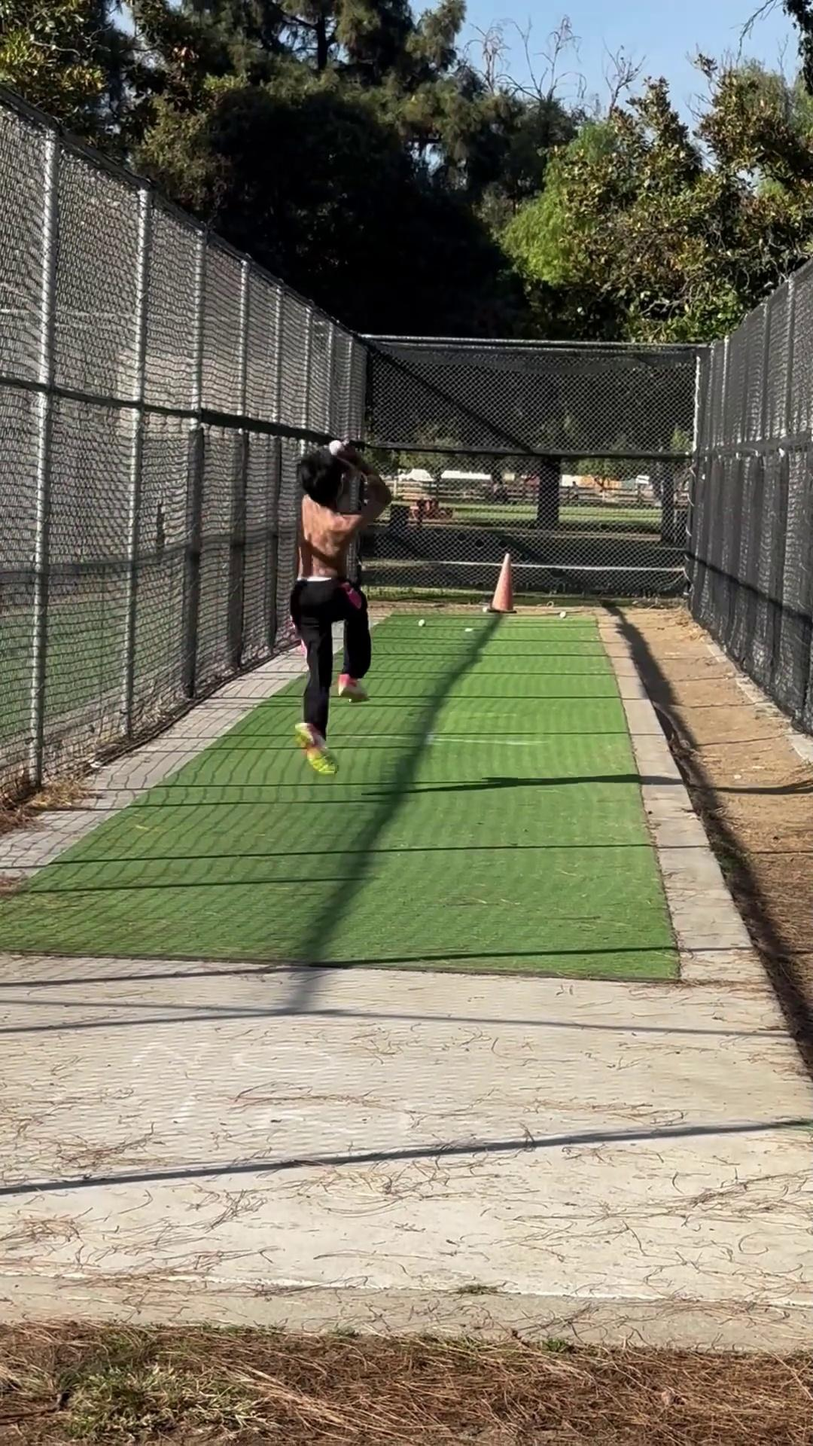ball: (322, 435, 350, 458)
